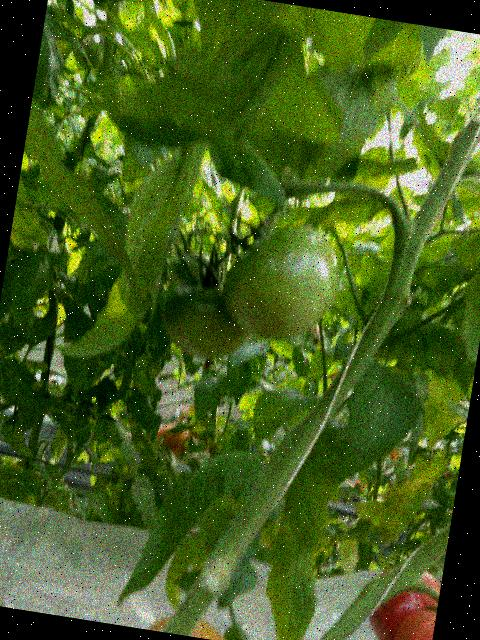b_fully_ripened: (362, 559, 443, 640), (393, 604, 437, 640)
b_green: (217, 214, 347, 348), (156, 274, 257, 362), (166, 246, 216, 289)
b_half_ripened: (140, 606, 236, 640)
